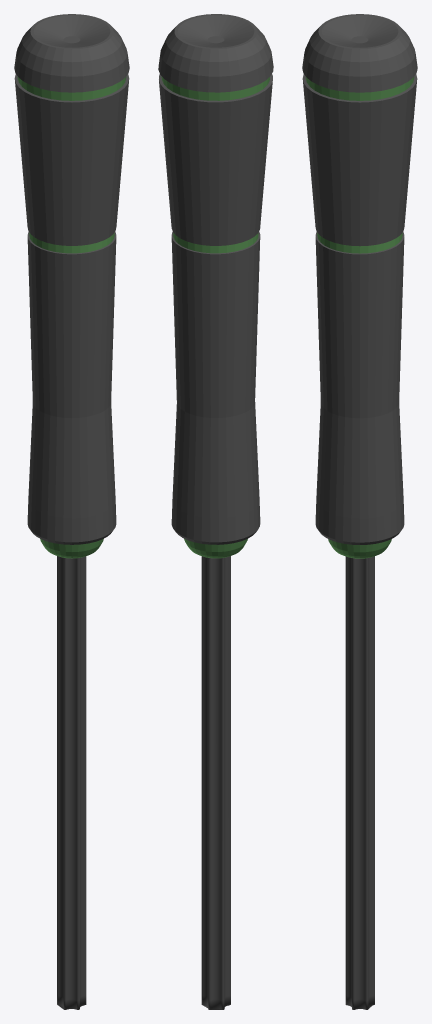
File: Screwdriver.fbx
3 renders of one model, left to right at view 1: azimuth 90°, elevation 25°; view 2: azimuth 150°, elevation 25°; view 3: azimuth 270°, elevation 25°, orthographic.
Visible parts, largest first — view 1: Screwdriver; view 2: Screwdriver; view 3: Screwdriver.
Boxes of the visible parts, x1=… form: Screwdriver: x1=14, y1=14, x2=129, y2=1009; Screwdriver: x1=158, y1=14, x2=273, y2=1009; Screwdriver: x1=302, y1=14, x2=417, y2=1009.
Size of the model in its own units: 51.94 by 483 by 51.94.
